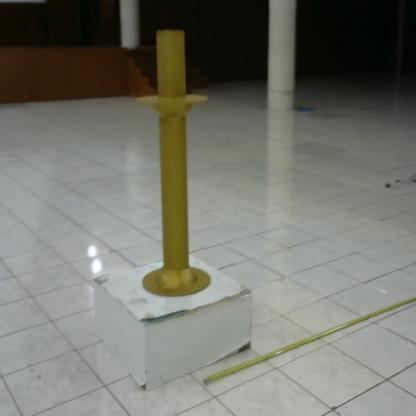pole: (129, 19, 218, 305)
